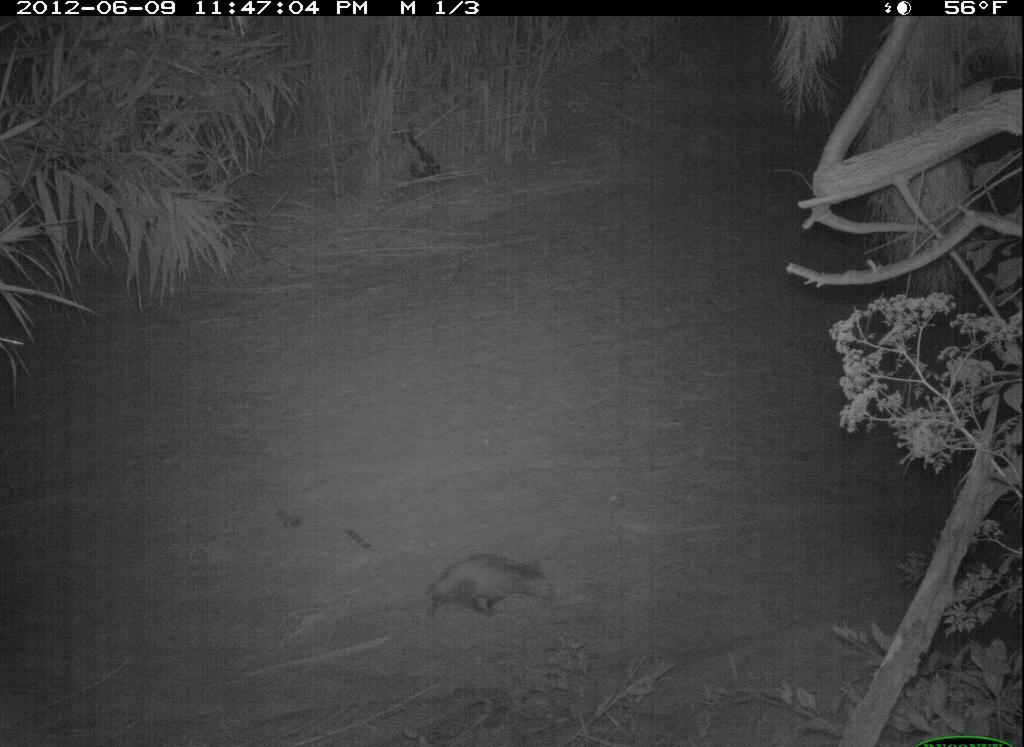opossum: (364, 536, 574, 671)
